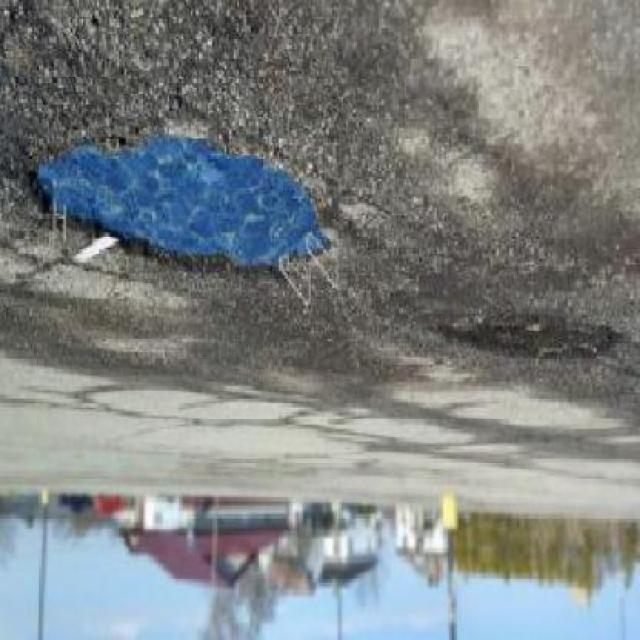pothole: (28, 139, 335, 286), (437, 314, 621, 369)
